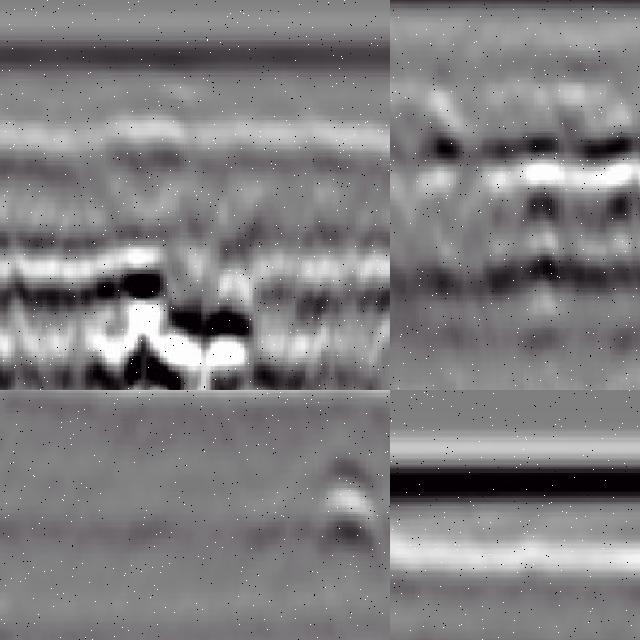loose: (421, 90, 640, 327), (1, 229, 251, 391), (303, 469, 391, 556)
